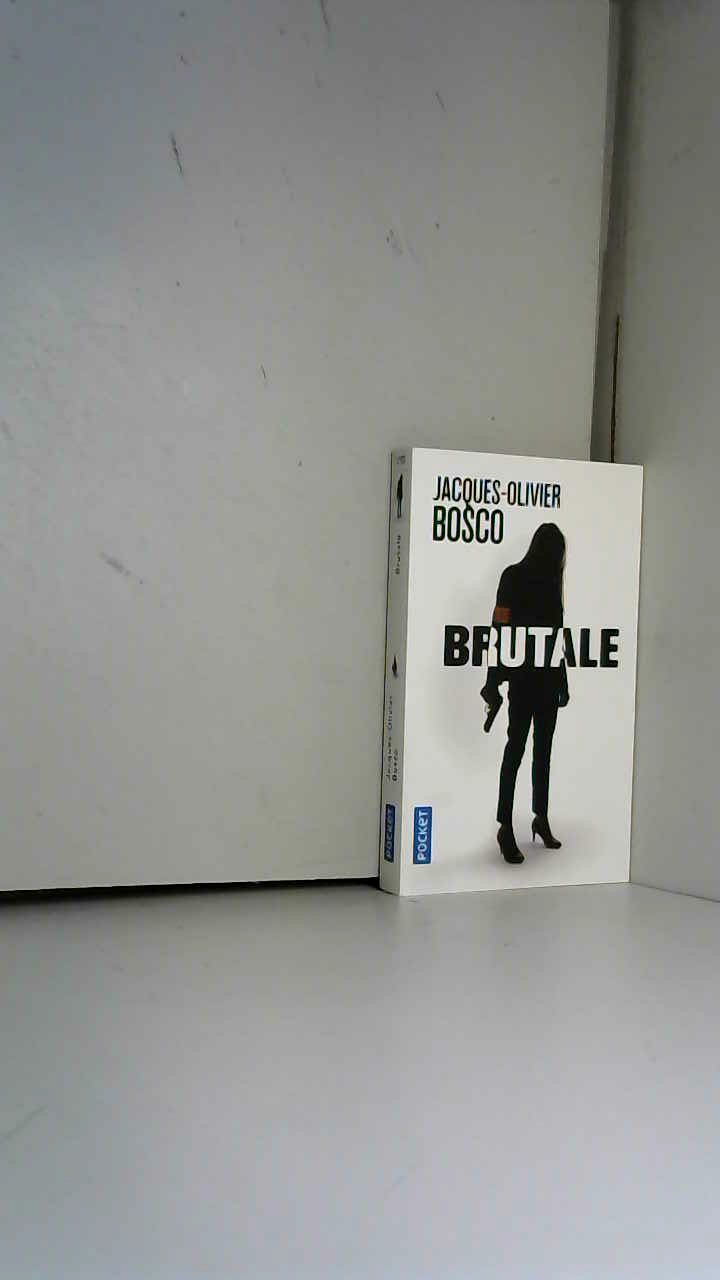book: (371, 434, 657, 914)
